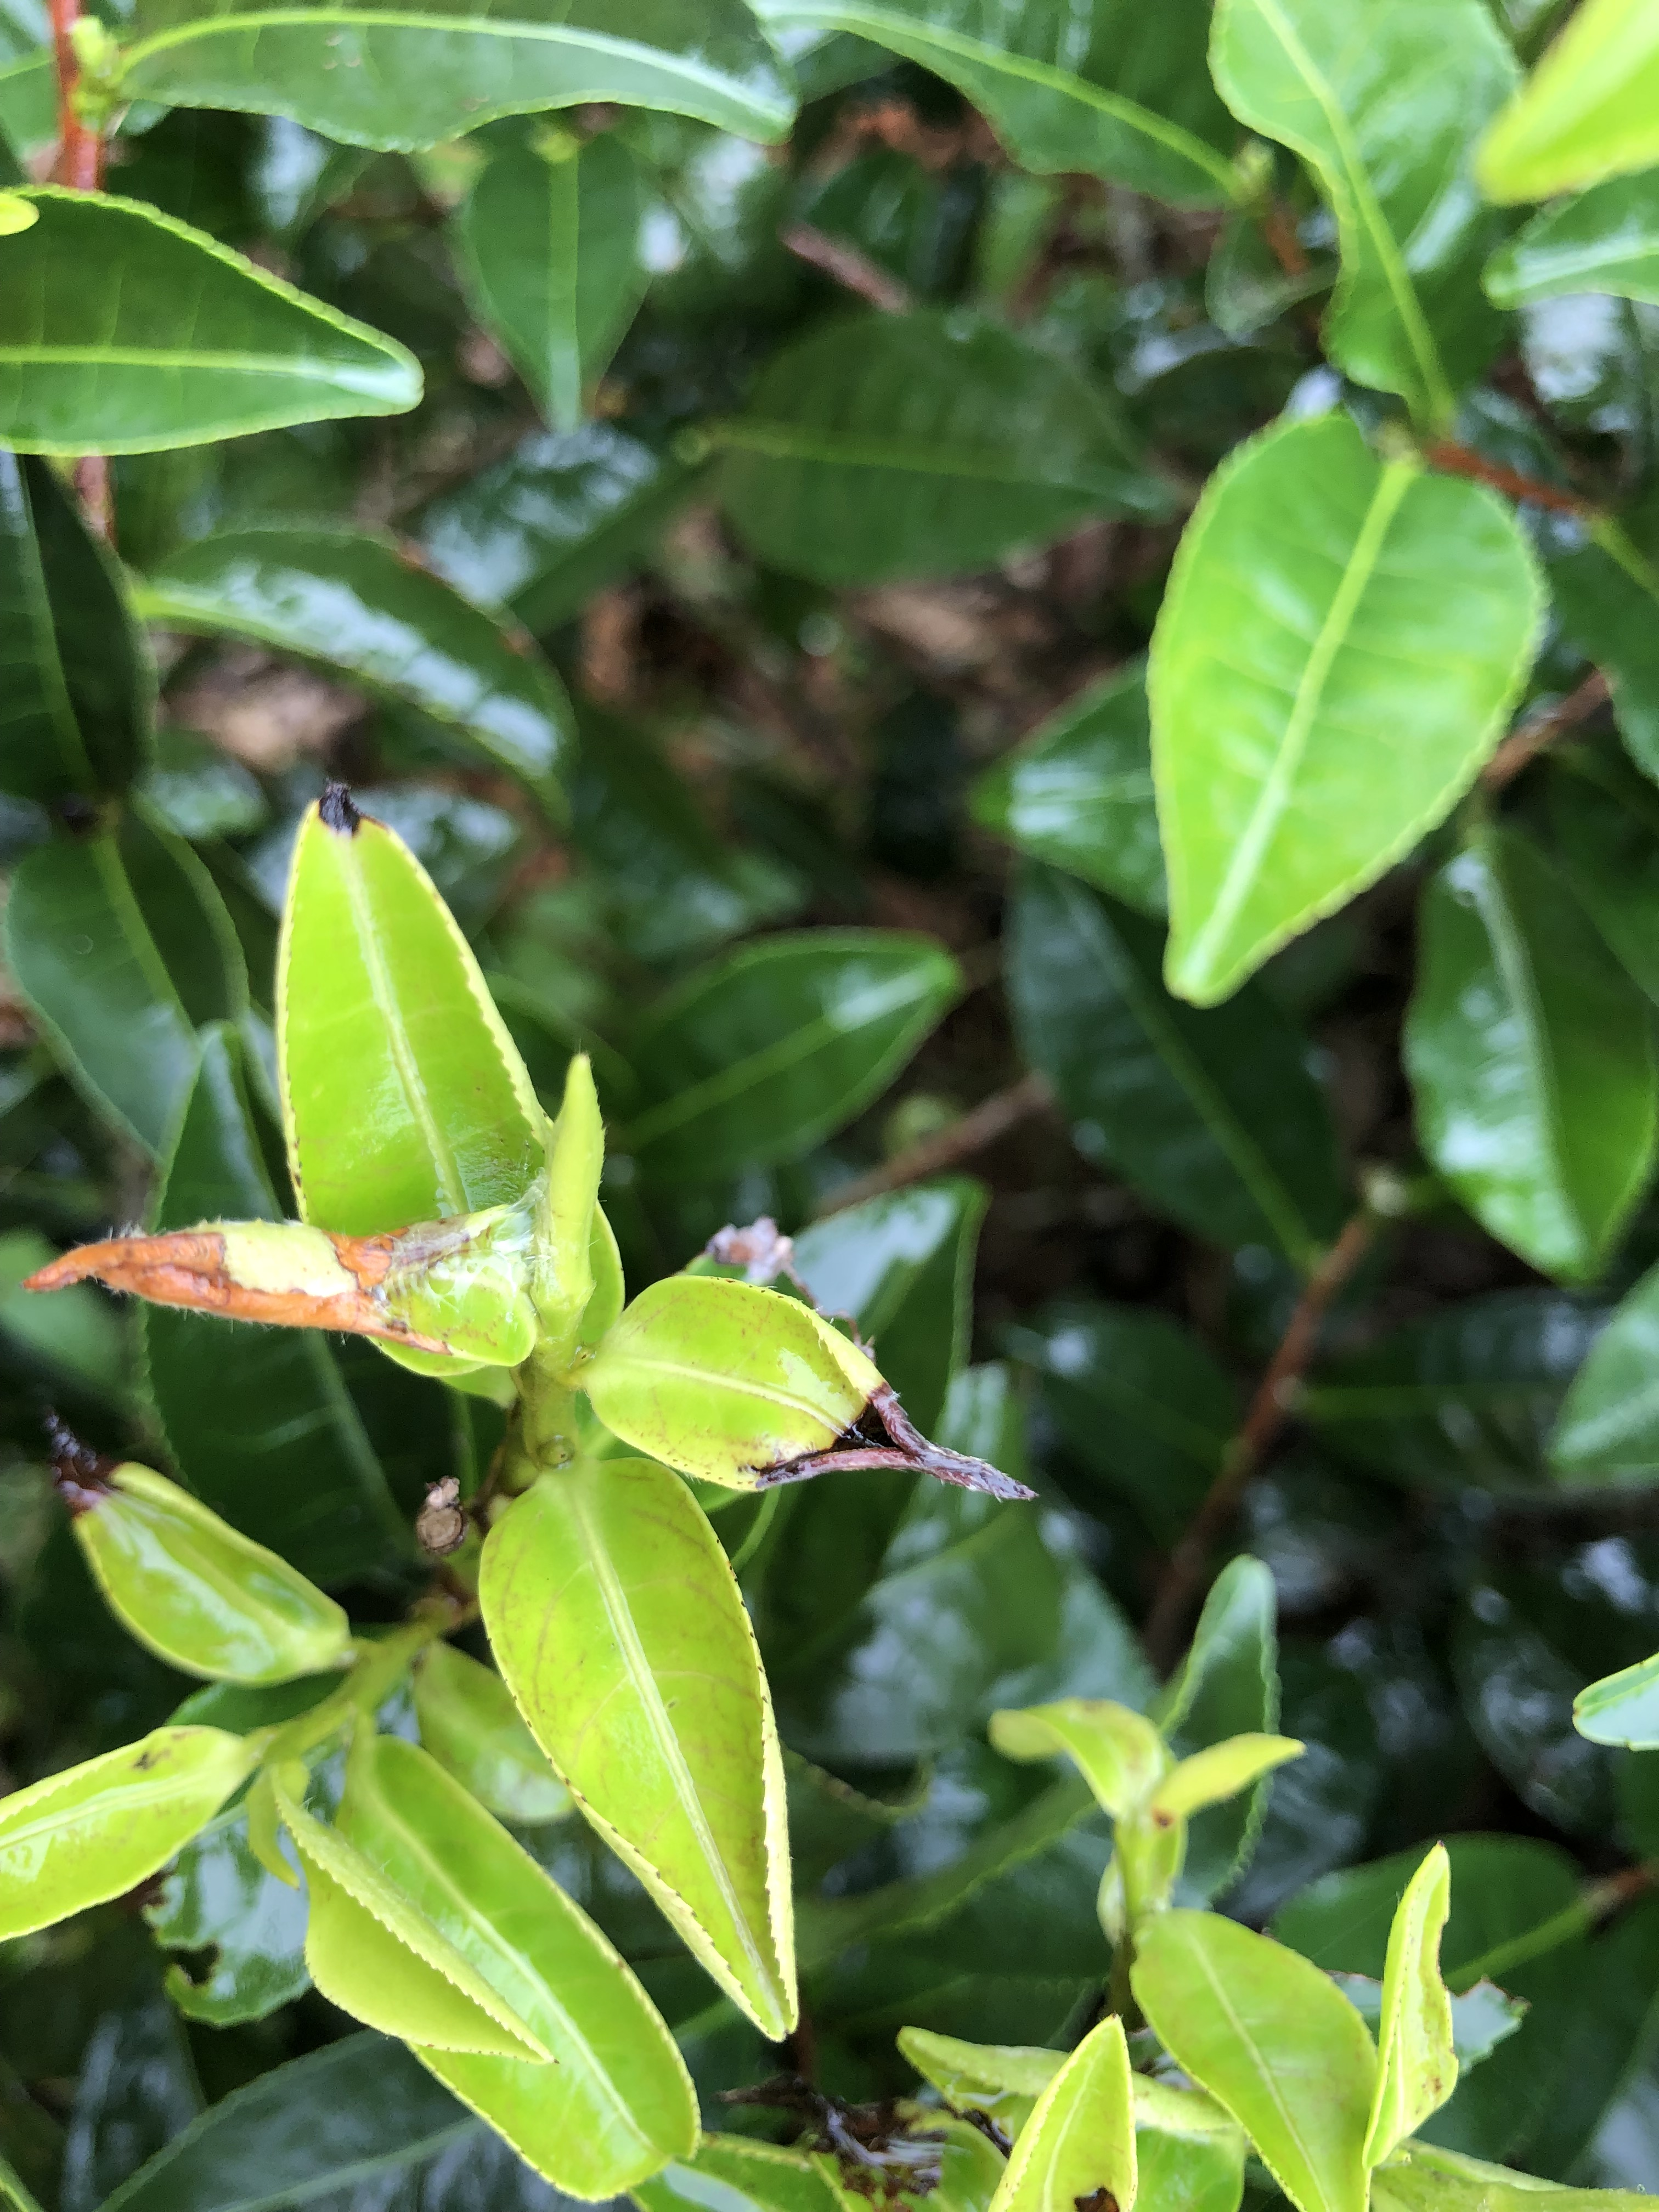formosa: (477, 1420, 805, 2050)
mosquito_early: (599, 1275, 1028, 1510)
other: (413, 1467, 479, 1583)
